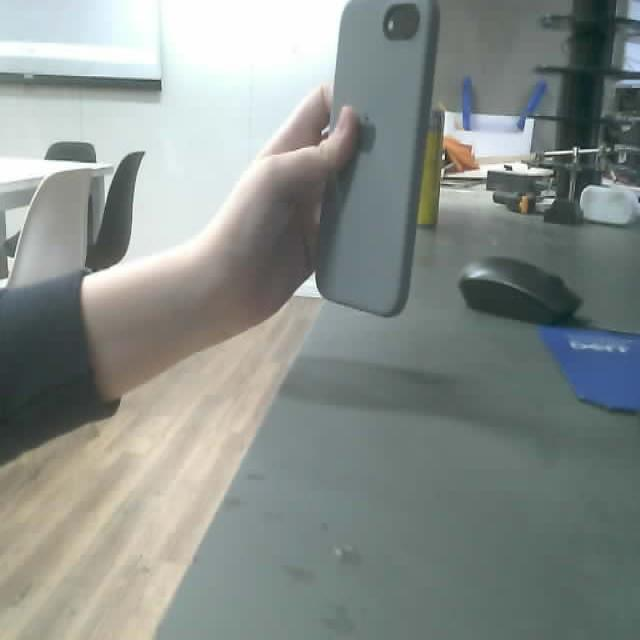phone: (314, 0, 442, 319)
